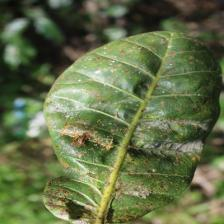red rust: (43, 32, 223, 223)
